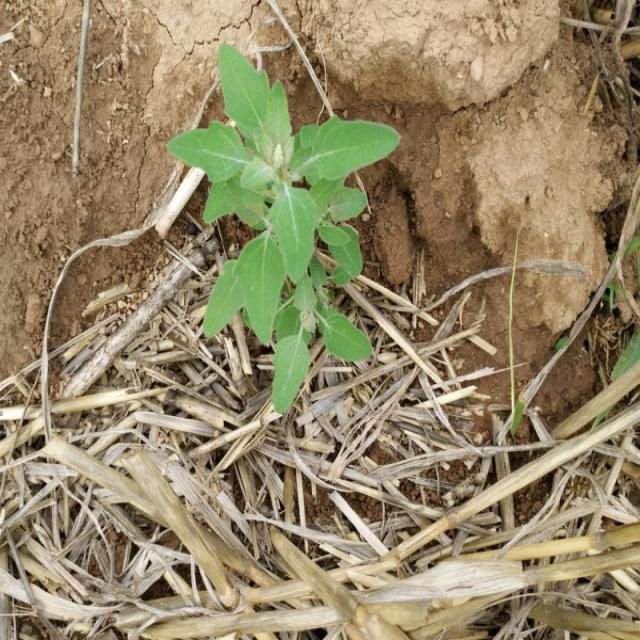ca: (172, 46, 400, 365)
